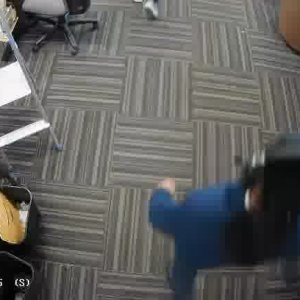person: (147, 128, 299, 300)
